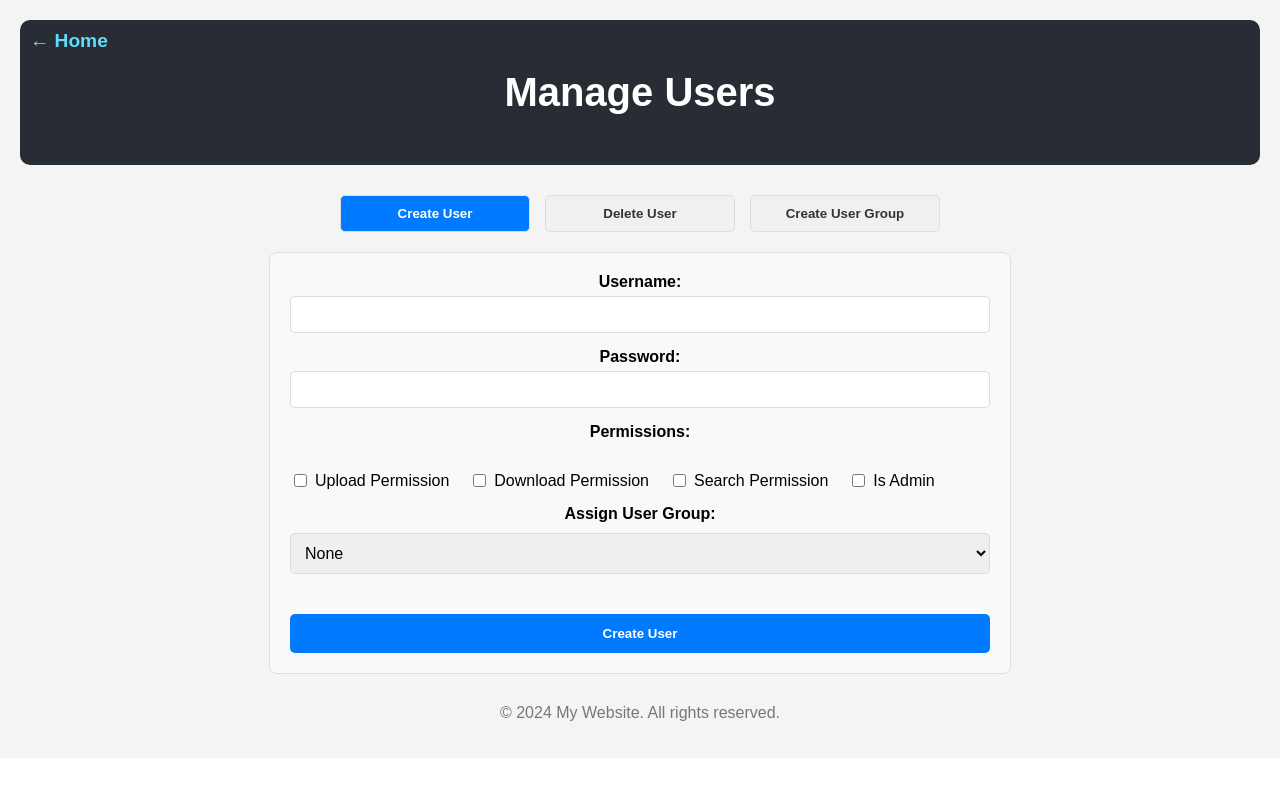
ManageUsers Component › handles error when creating a user fails
The image size is (1280, 800).
Type "newUser" into the field labelled "Username:" at coordinates (640, 314), box [290,296,990,333]
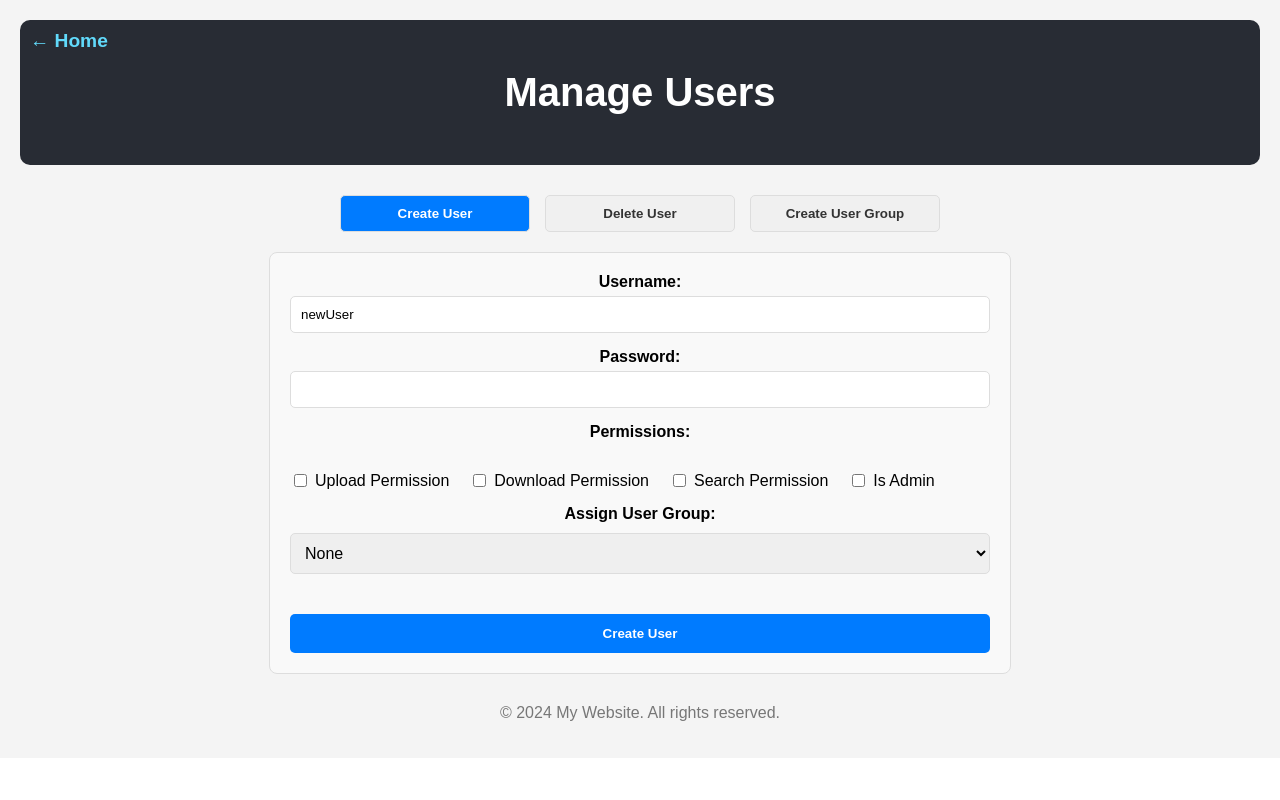
Type "password123" into the password field labelled "Password:" at coordinates (640, 390), box [290,371,990,408]
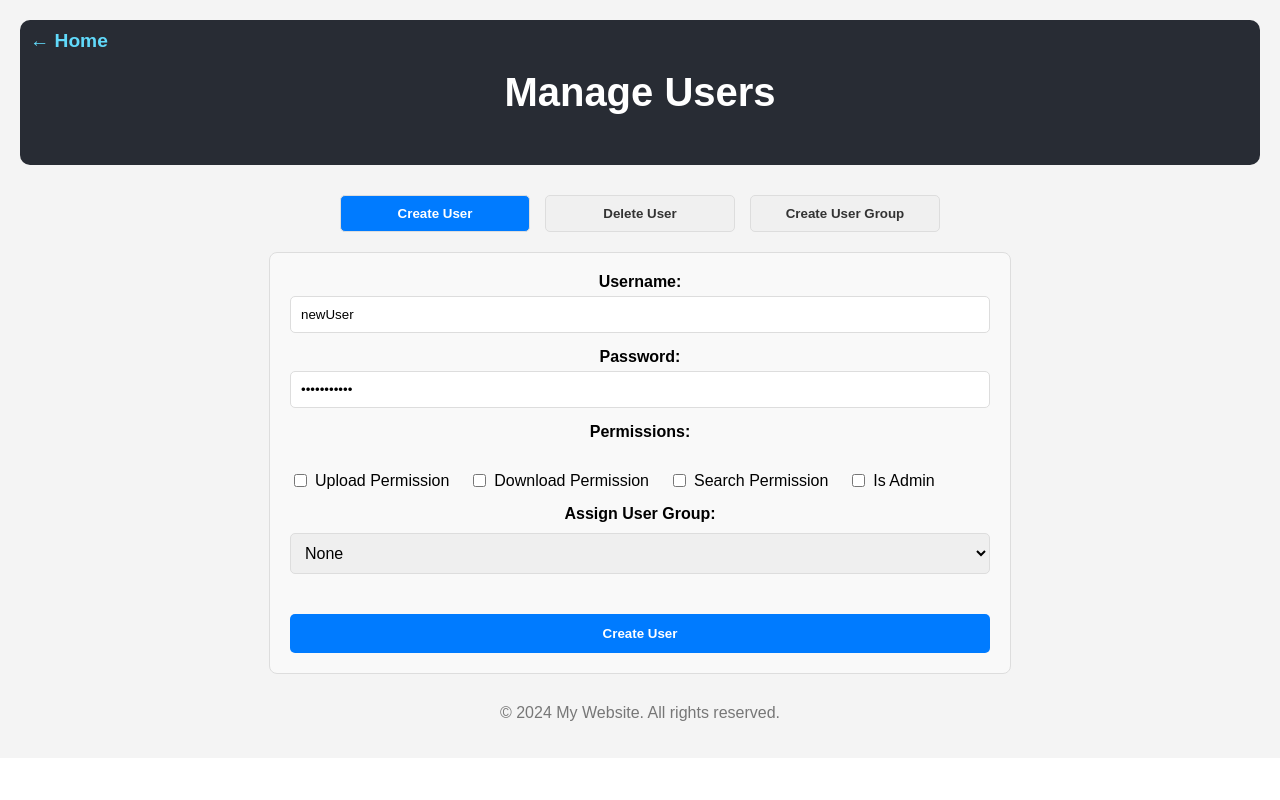
Click the button "Create User" below "Assign User Group:" at coordinates (640, 634), box [290,614,990,653]
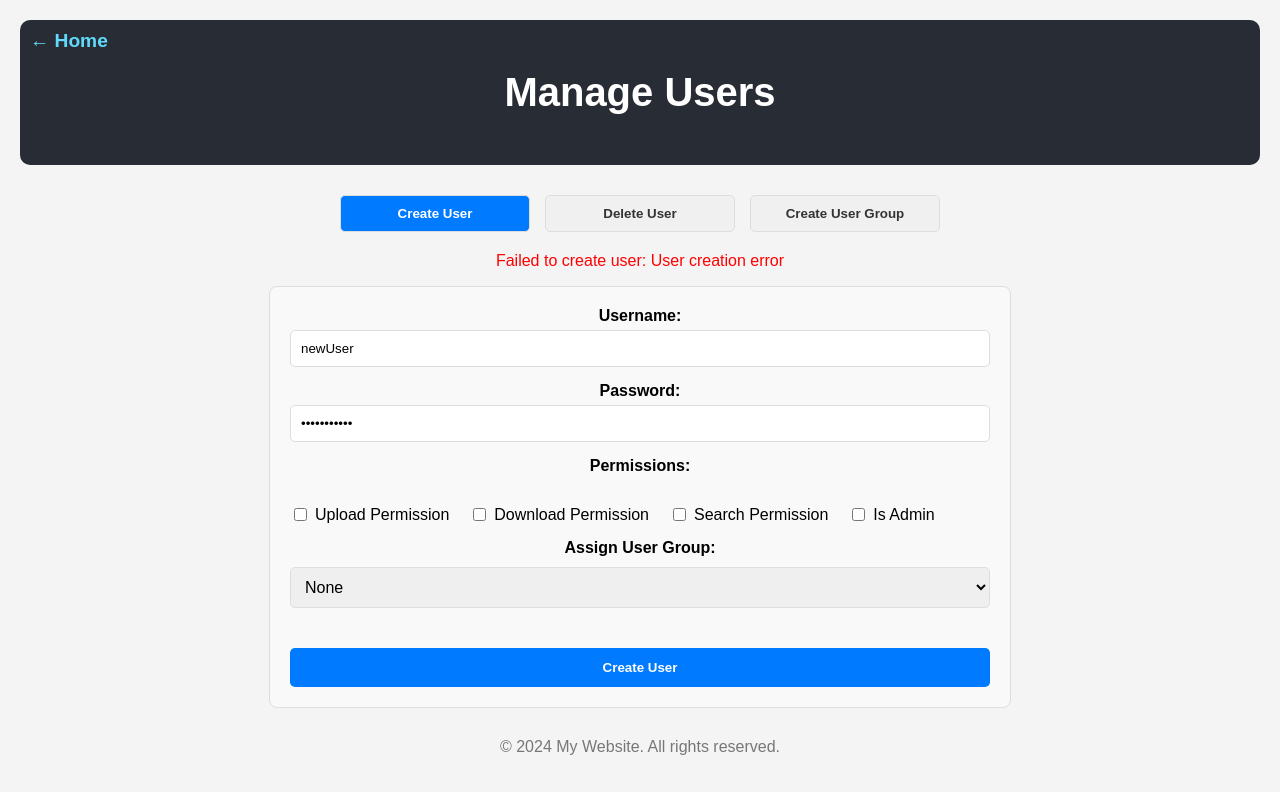
Now the text "Failed to create user: User creation error" is shown, box [496,252,784,269]
